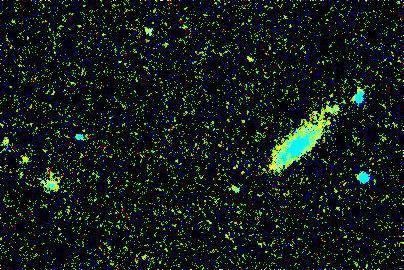star: (230, 46, 260, 76)
